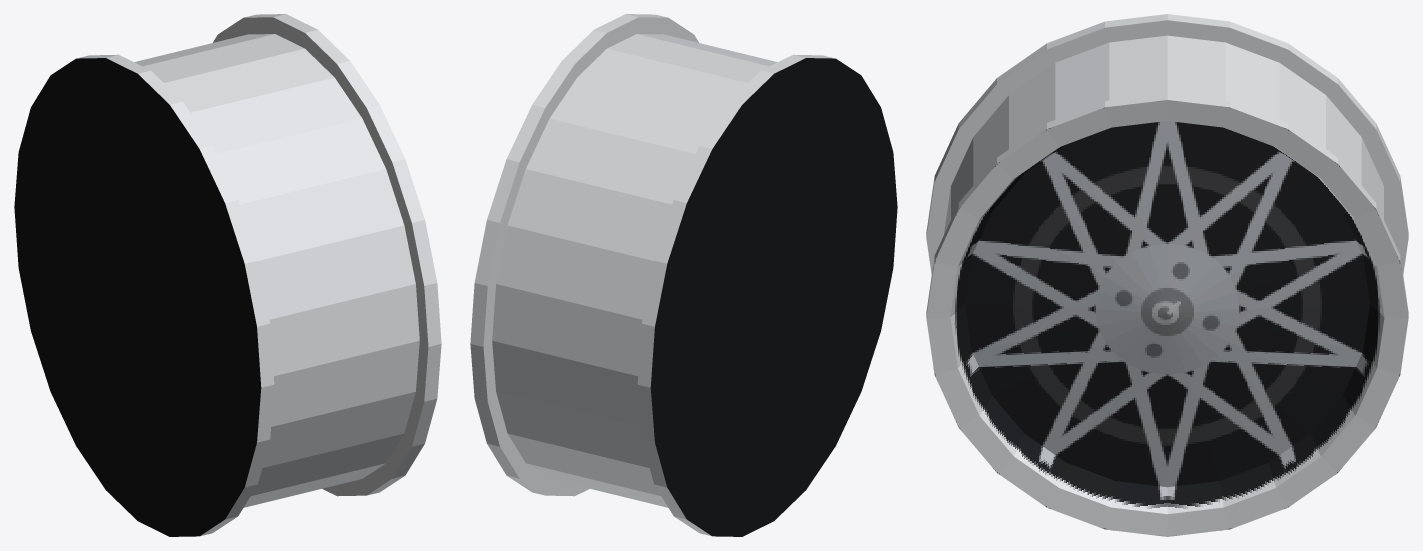
File: quebramola_malha_16.glb
3 renders of one model, left to right at view 1: azimuth 30°, elevation 25°; view 2: azimuth 150°, elevation 25°; view 3: azimuth 270°, elevation 25°, orthographic. The views are drawn at different scales.
Visible parts, largest first — view 1: quebramola_malha_16; view 2: quebramola_malha_16; view 3: quebramola_malha_16.
Part boxes in pixels (x1,y1,x2,y2): quebramola_malha_16: (14, 14, 441, 536); quebramola_malha_16: (470, 14, 897, 536); quebramola_malha_16: (926, 14, 1408, 536).
Size of the model in its own units: 0.192 by 0.4552 by 0.4552.
1 material, 1 textured.
